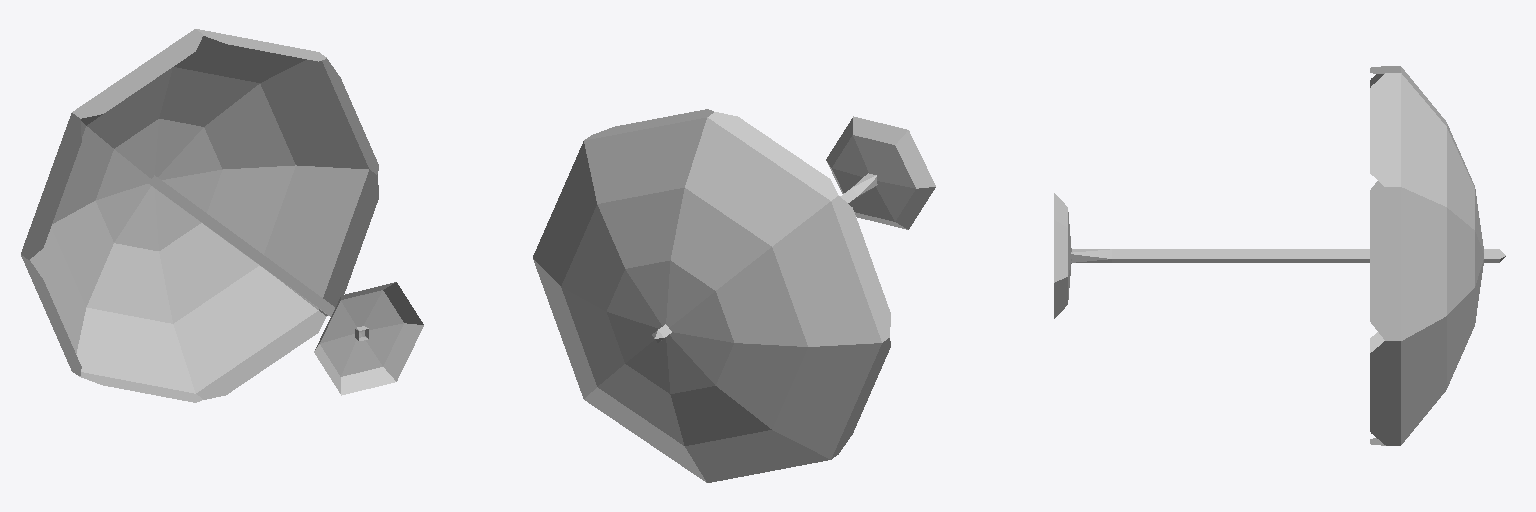
Rendered from polygon0.522.obj.
3 views of the same model, side by side, from view 1: azimuth 30°, elevation 25°; view 2: azimuth 150°, elevation 25°; view 3: azimuth 270°, elevation 25° (orthographic).
Visible parts, largest first — view 1: Parasol.001; view 2: Parasol.001; view 3: Parasol.001.
Part boxes in pixels (x1,y1,x2,y2): Parasol.001: (21,29,423,402); Parasol.001: (533,109,935,482); Parasol.001: (1054,66,1505,445).
Bounding box in the file's own units: 33.94 × 33.94 × 38.01.